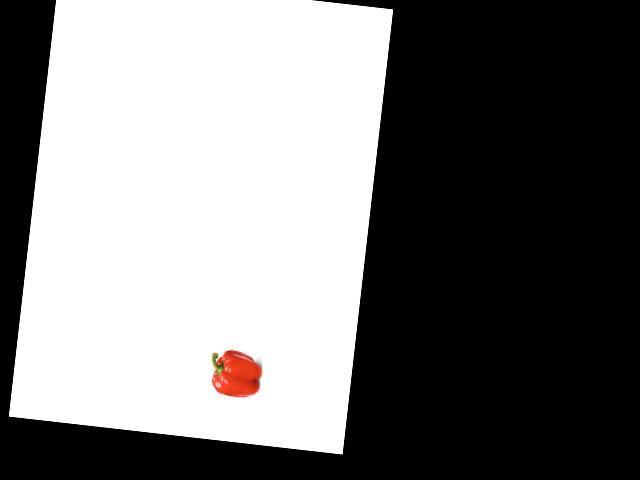bell_pepper: (206, 347, 264, 400)
